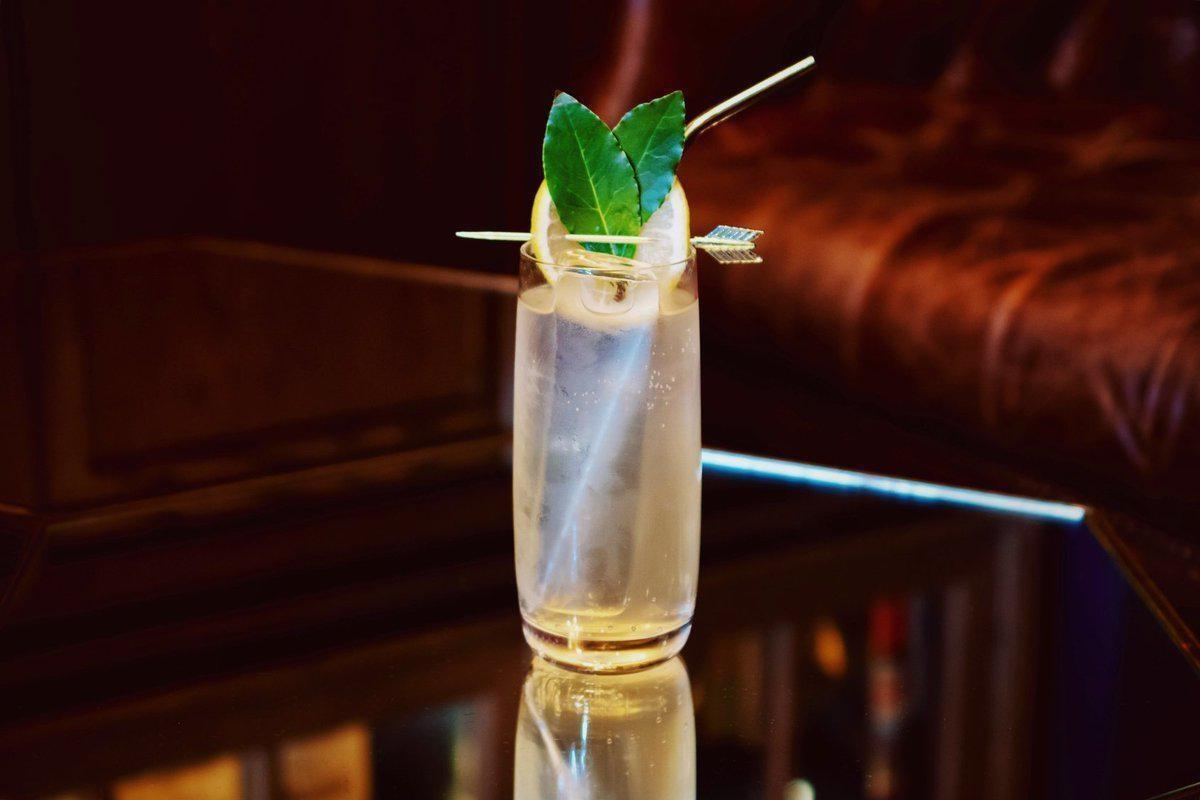glass-normal: (507, 229, 703, 667)
